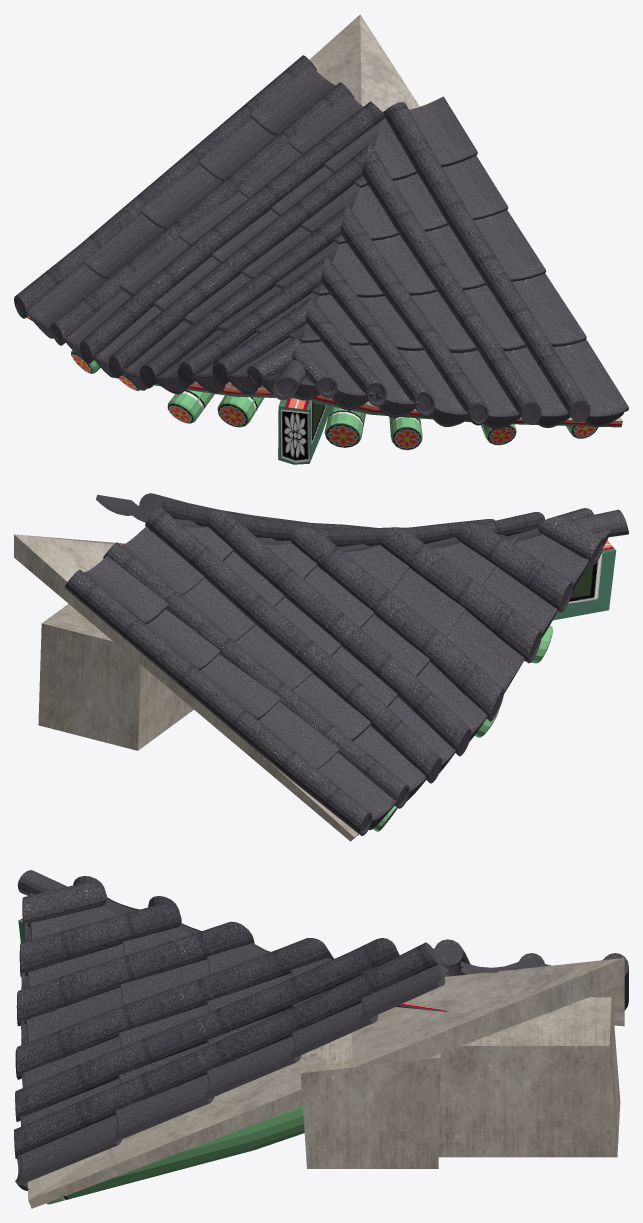
File: SM_R_RoofCorner_14.fbx
The picture shows the model from 3 angles, top to bottom: view 1: azimuth 30°, elevation 25°; view 2: azimuth 150°, elevation 25°; view 3: azimuth 270°, elevation 25°; orthographic projection. The views are drawn at different scales.
Visible parts, largest first — view 1: SM_R_RoofCorner_14; view 2: SM_R_RoofCorner_14; view 3: SM_R_RoofCorner_14.
Boxes of the visible parts, box(x1,y1,x2,y2) form: SM_R_RoofCorner_14: box(14, 14, 628, 464); SM_R_RoofCorner_14: box(14, 493, 628, 841); SM_R_RoofCorner_14: box(14, 870, 628, 1208).
Bounding box in the file's own units: 253 × 340 × 172.
Materials: 5 (5 with a texture image).
